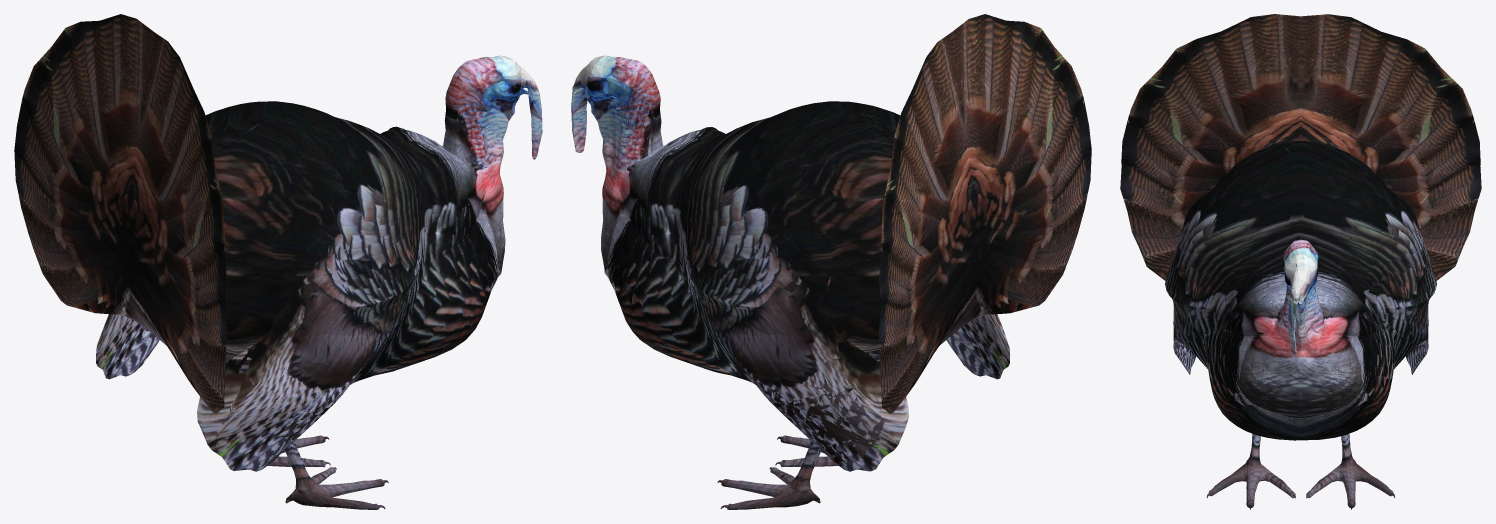
The model's file is Turkey.fbx.
The picture shows the model from 3 angles, left to right: view 1: azimuth 30°, elevation 25°; view 2: azimuth 150°, elevation 25°; view 3: azimuth 270°, elevation 25°; orthographic projection. The views are drawn at different scales.
Parts seen in each view (by area): view 1: Turkey_FBX; view 2: Turkey_FBX; view 3: Turkey_FBX.
Part boxes in pixels (x1,y1,x2,y2): Turkey_FBX: [14, 14, 542, 509]; Turkey_FBX: [571, 14, 1091, 509]; Turkey_FBX: [1120, 14, 1481, 509].
Bounding box in the file's own units: 438 × 483 × 385.
Materials: 1 (1 with a texture image).
